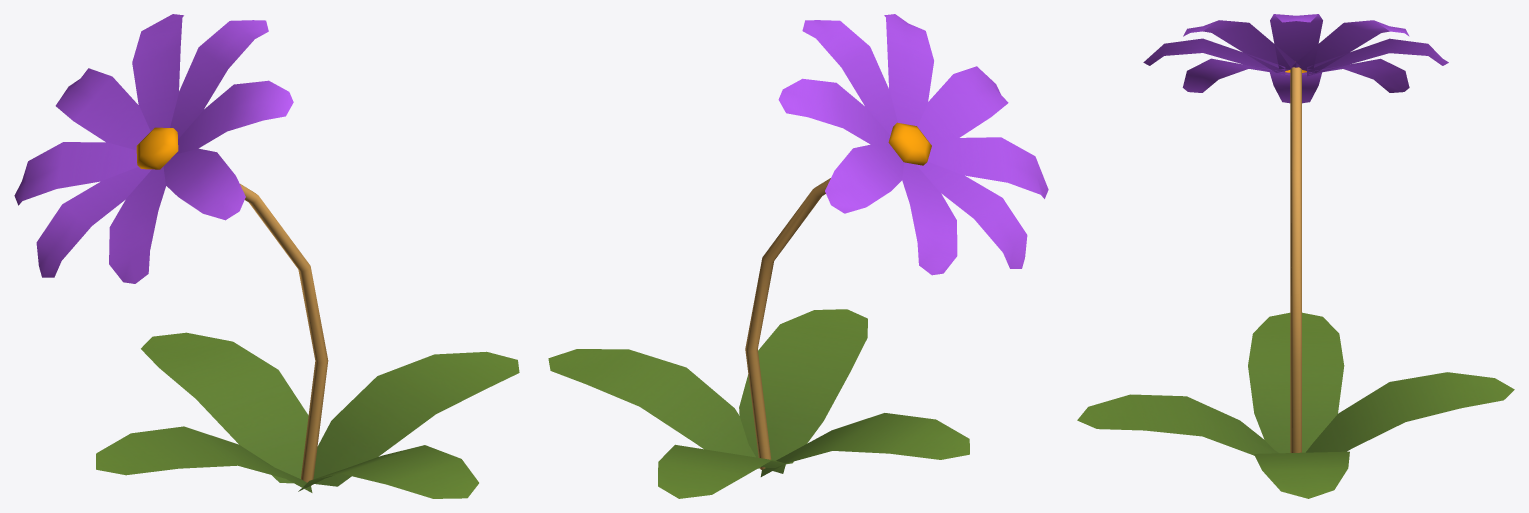
File: Purple+round+flower.fbx
3 renders of one model, left to right at view 1: azimuth 30°, elevation 25°; view 2: azimuth 150°, elevation 25°; view 3: azimuth 270°, elevation 25°, orthographic. The views are drawn at different scales.
Parts seen in each view (by area): view 1: Purple round flower; view 2: Purple round flower; view 3: Purple round flower.
Part boxes in pixels (<box>): Purple round flower: <box>14,14,519,498</box>; Purple round flower: <box>548,14,1048,498</box>; Purple round flower: <box>1077,14,1514,498</box>.
Size of the model in its own units: 33.2 by 31.13 by 29.13.
